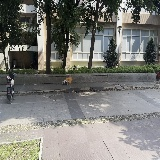fire: (65, 77, 72, 84)
